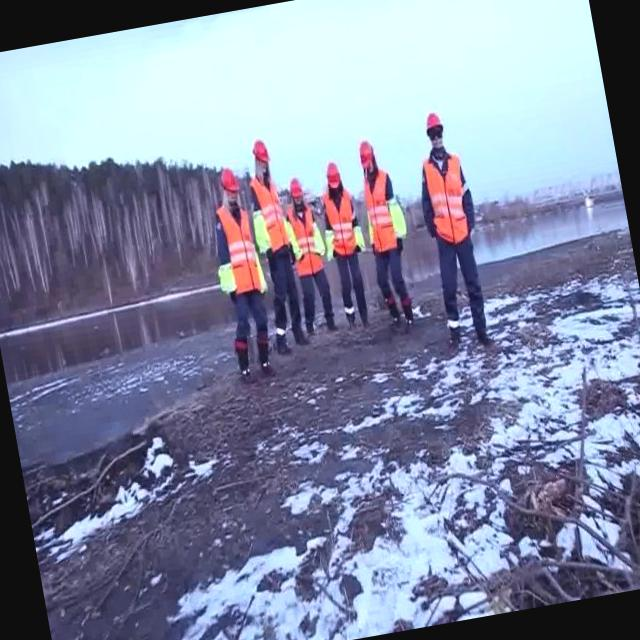vest: (416, 152, 482, 250), (354, 166, 408, 264), (210, 198, 262, 298), (418, 154, 471, 242), (215, 198, 262, 296), (356, 162, 402, 255), (246, 172, 294, 258), (317, 178, 362, 258), (318, 185, 363, 260), (286, 203, 328, 280), (250, 170, 290, 250), (284, 202, 324, 280), (386, 191, 408, 243), (249, 204, 270, 256), (309, 215, 328, 259), (218, 259, 236, 294), (323, 224, 338, 262), (289, 220, 300, 260), (352, 221, 366, 252), (255, 252, 266, 290)
